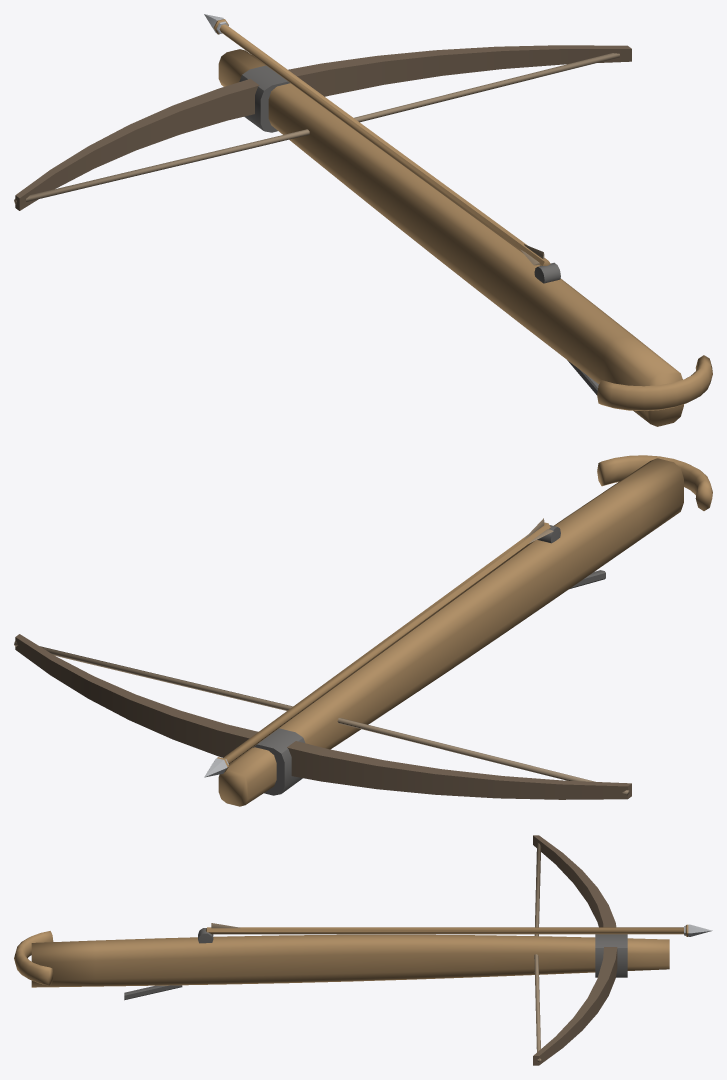
The model's file is gastraphetes.glb.
3 renders of one model, top to bottom at view 1: azimuth 30°, elevation 25°; view 2: azimuth 150°, elevation 25°; view 3: azimuth 270°, elevation 25°, orthographic. The views are drawn at different scales.
Visible parts, largest first — view 1: gastraphetes; view 2: gastraphetes; view 3: gastraphetes.
Boxes of the visible parts, <box> form: gastraphetes: <box>14,14,712,426</box>; gastraphetes: <box>14,455,712,806</box>; gastraphetes: <box>14,835,712,1065</box>.
Bounding box in the file's own units: 1.8 × 0.2915 × 2.41.
